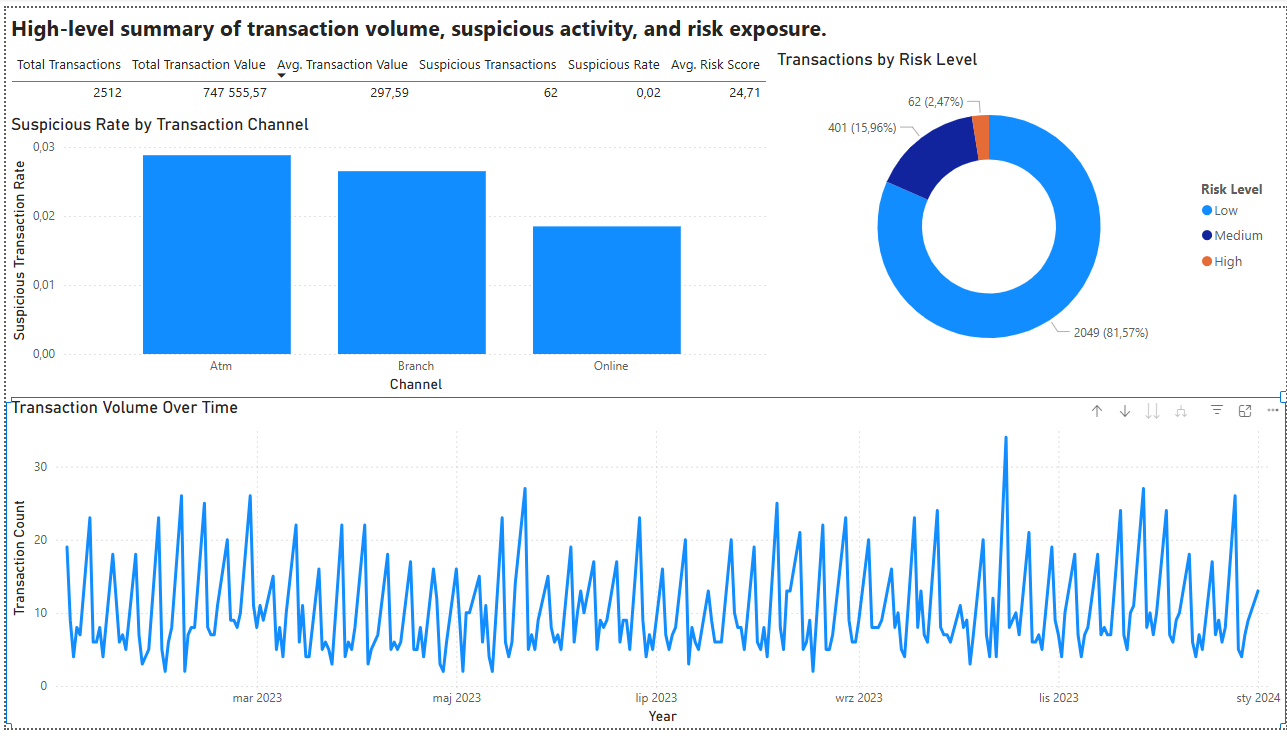

What the dashboard file says about the page in this screenshot:
{"tool":"powerbi","page":{"name":"Executive Risk Overview","canvas":[1280,720],"ordinal":0},"visuals":[{"type":"tableEx","fields":{"Values":["fact_transactions.Transaction Count","fact_transactions.Total Transaction Amount","fact_transactions.Average Transaction Amount","fact_transactions.Suspicious Transaction Count","fact_transactions.Suspicious Transaction Rate","Avg(fact_transactions.risk_score)"]},"box":[0,41.4,767.1,62.9],"z":0},{"type":"textbox","box":[0,0,858.6,41.4],"z":1000},{"type":"donutChart","title":"Transactions by Risk Level","fields":{"Category":["fact_transactions.risk_level"],"Y":["fact_transactions.Transaction Count"]},"box":[765.7,41.4,514.3,335.7],"z":2000},{"type":"clusteredColumnChart","title":"Suspicious Rate by Transaction Channel","fields":{"Category":["dim_channel.channel"],"Y":["fact_transactions.Suspicious Transaction Rate"]},"box":[0,105.7,765.7,282.9],"z":3000},{"type":"clusteredColumnChart","fields":{"Category":["dim_date.date.Variation.Date Hierarchy.Year","dim_date.date.Variation.Date Hierarchy.Quarter","dim_date.date.Variation.Date Hierarchy.Month","dim_date.date.Variation.Date Hierarchy.Day"],"Y":["fact_transactions.Transaction Count"]},"box":[0,398.9,1280,321.1],"z":4000}]}

Visuals, with their boxes in screenshot pixels (x1, y1, x2, y2), scaled from the page's 1280x720 canvas onto the 1287x738 screenshot:
tableEx - fact_transactions.Transaction Count x fact_transactions.Total Transaction Amount: <bbox>0, 42, 771, 107</bbox>
textbox: <bbox>0, 0, 863, 42</bbox>
"Transactions by Risk Level" donutChart: <bbox>770, 42, 1286, 387</bbox>
"Suspicious Rate by Transaction Channel" clusteredColumnChart: <bbox>0, 108, 770, 398</bbox>
clusteredColumnChart - dim_date.date.Variation.Date Hierarchy.Year x dim_date.date.Variation.Date Hierarchy.Quarter: <bbox>0, 409, 1286, 737</bbox>
